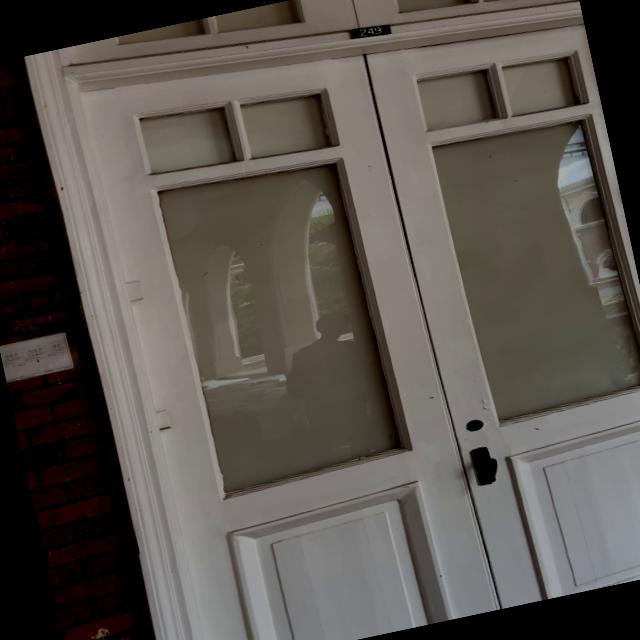room249: (346, 14, 398, 44)
